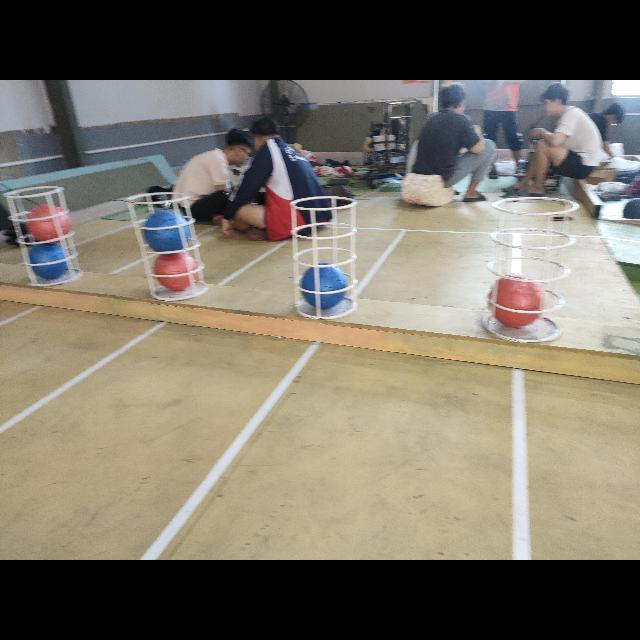B: (302, 262, 348, 310), (143, 210, 191, 252), (28, 242, 68, 280)
R: (488, 274, 544, 326), (27, 204, 71, 246), (155, 253, 197, 290)
